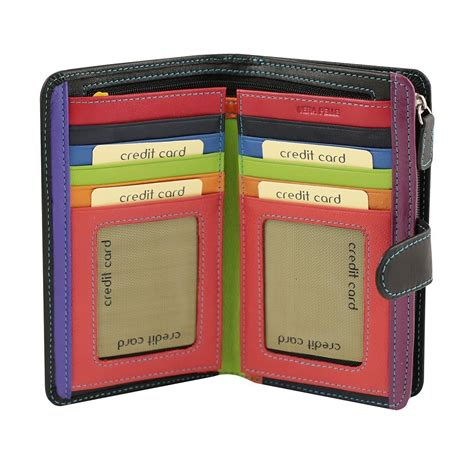cuero: (40, 53, 437, 408)
